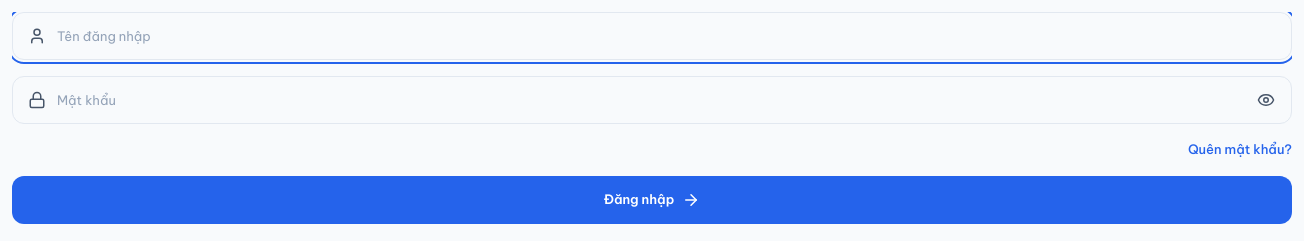
Test case: LoginForm › nút bị vô hiệu trong lúc chờ (chặn bấm đúp)
The image size is (1304, 241).
Type "nam" into the field labelled "Tên đăng nhập" at (652, 36), box [12,12,1292,60]
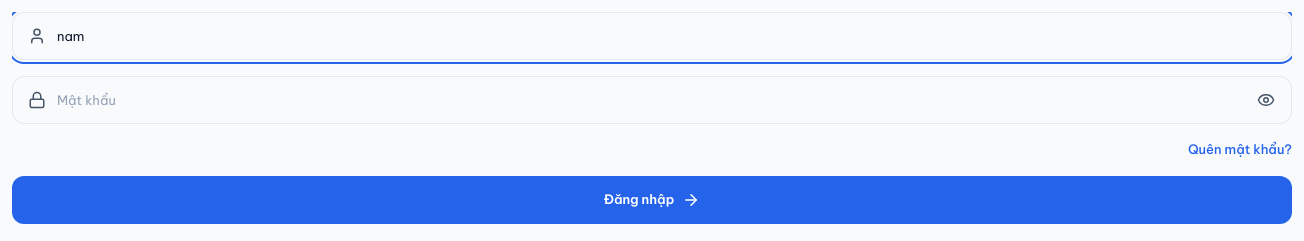
Type "Xuong2026" into the password field labelled "Mật khẩu" at (652, 100), box [12,76,1292,124]
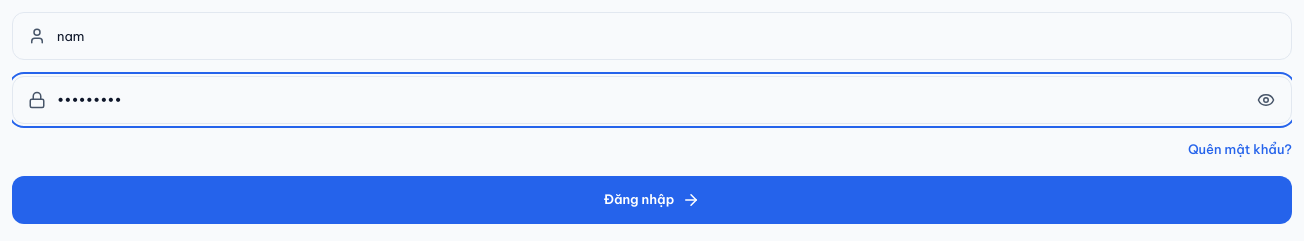
Click the button "Đăng nhập" at (652, 200), box [12,176,1292,224]
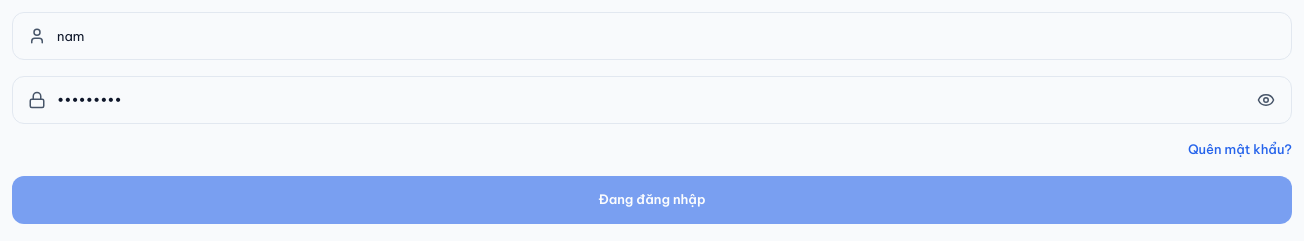
Result: the button "Đang đăng nhập" is disabled at [12,176,1292,224]
